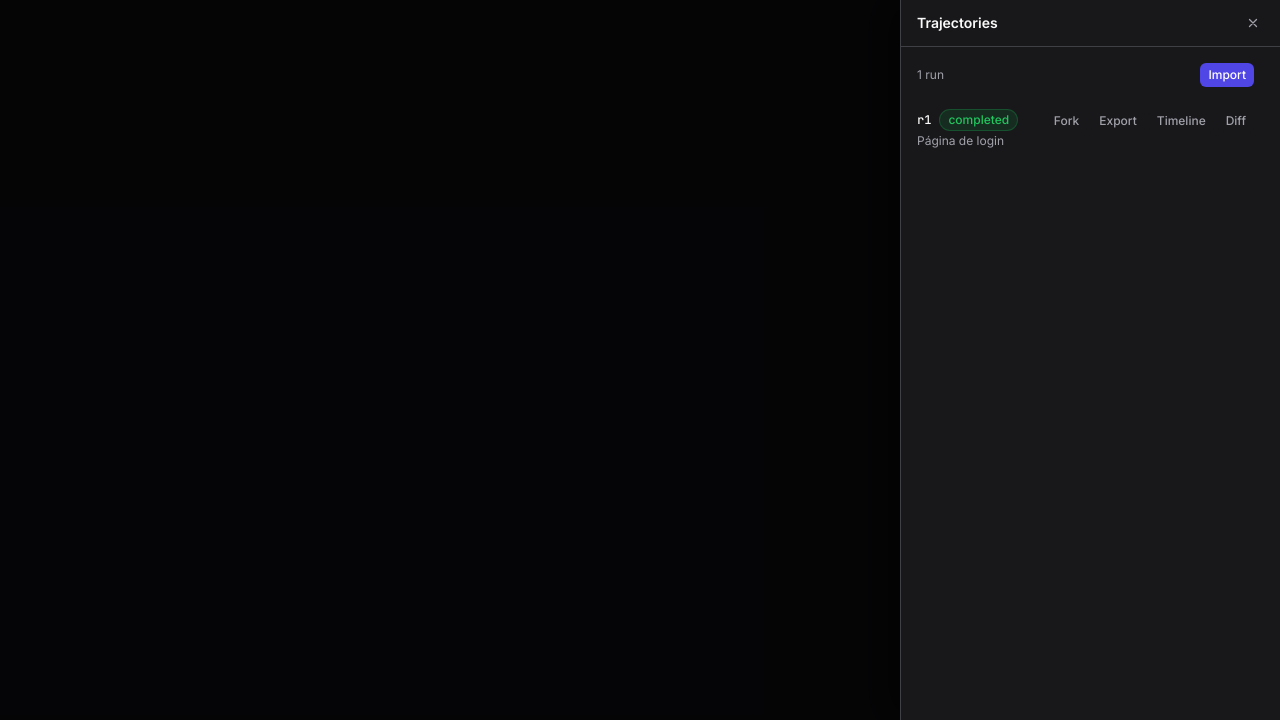
TrajectoriesPanel (Fase C) › fork 409 mostra erro PT e não registra run
Click the button "Fork" at [1066, 121], box [1046,109,1087,133]
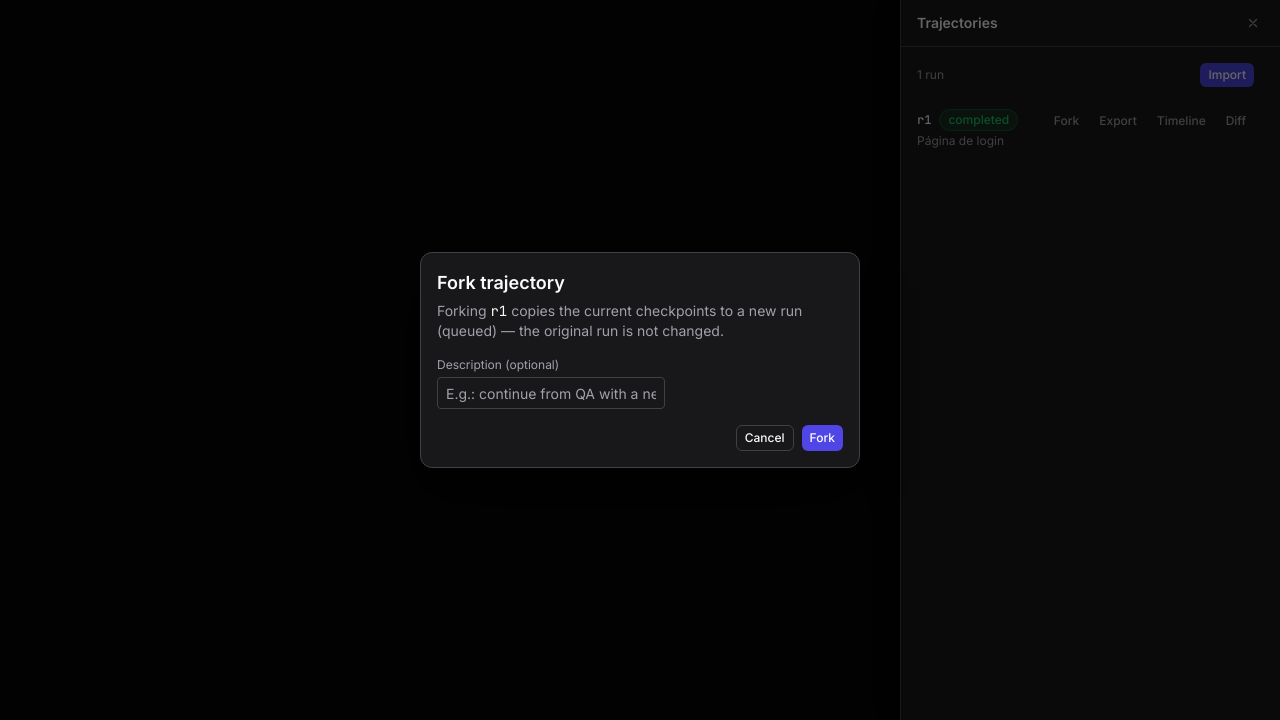
Click the button "Fork" at [822, 438], box [802,425,843,451]
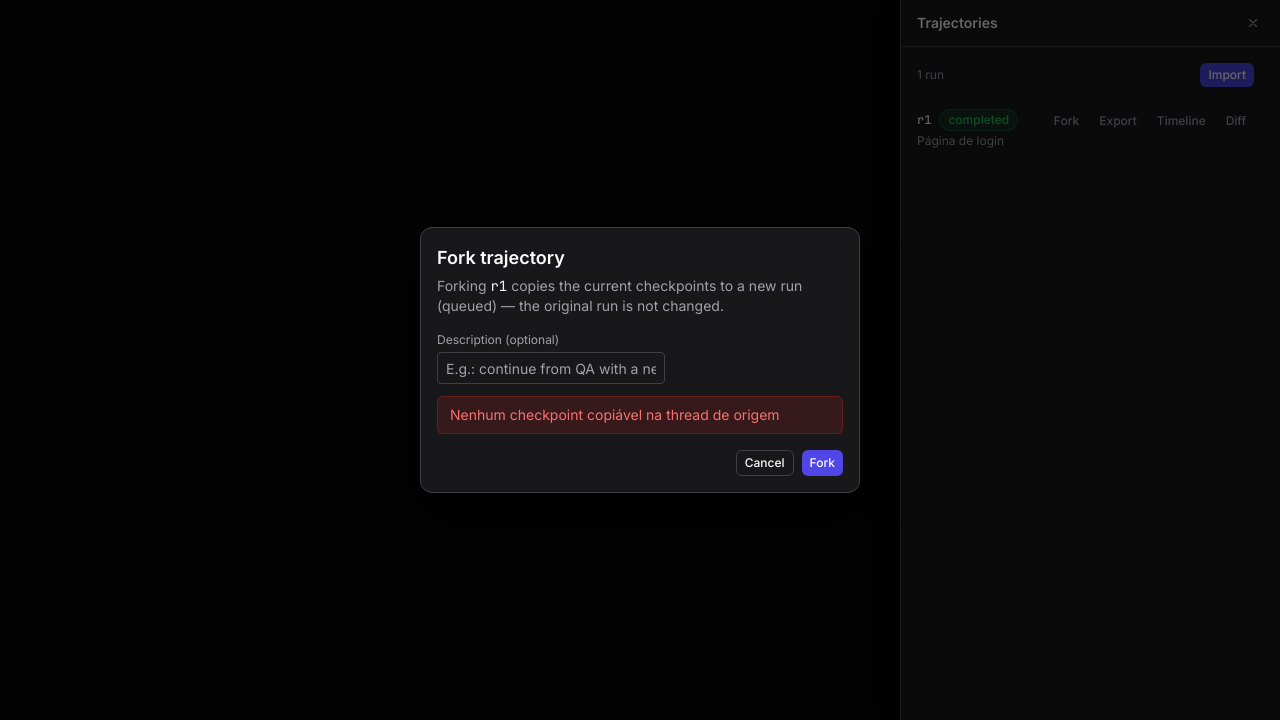
Check: the message reads "Nenhum checkpoint copiável na thread de origem", box [450,406,780,423]
